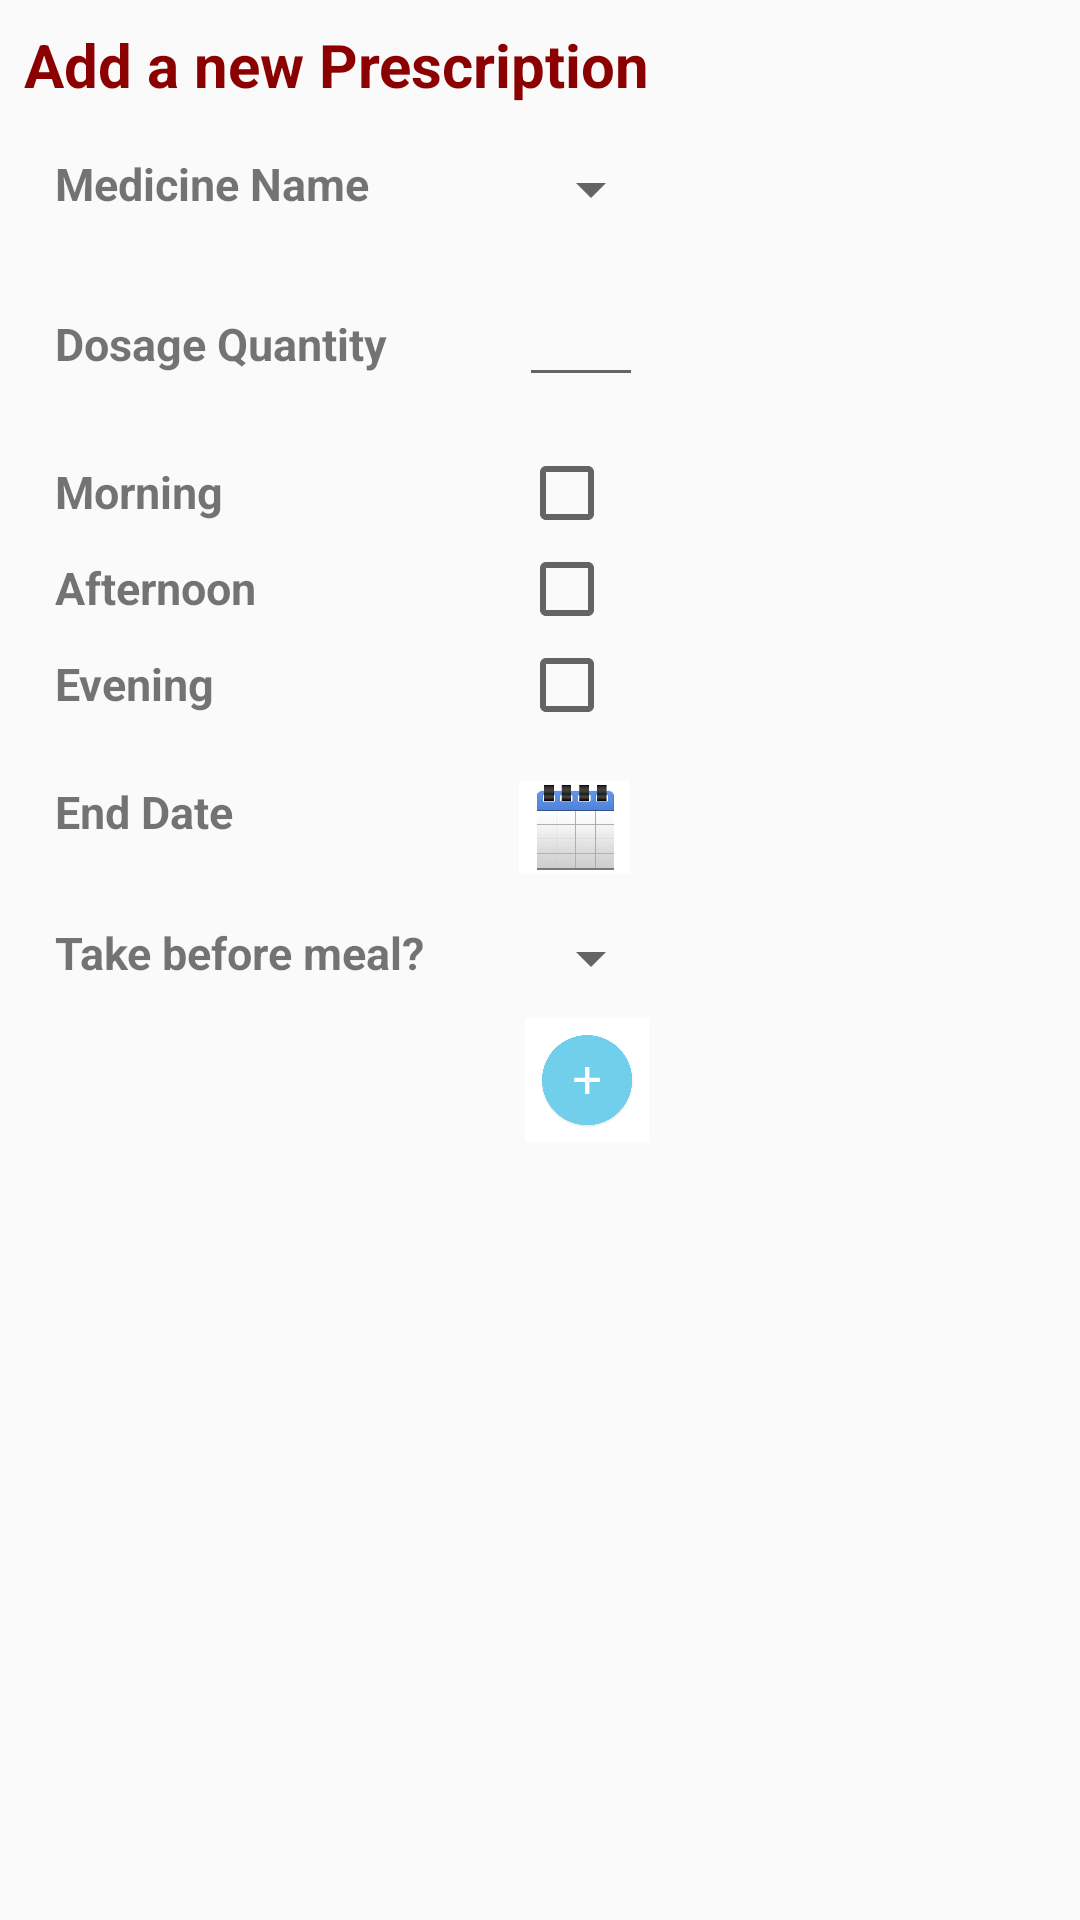

Screen size 1080 x 1920. Icon name, then its center in pixels as point (x, y):
add: point (587, 1080)
calendar: point (575, 827)
